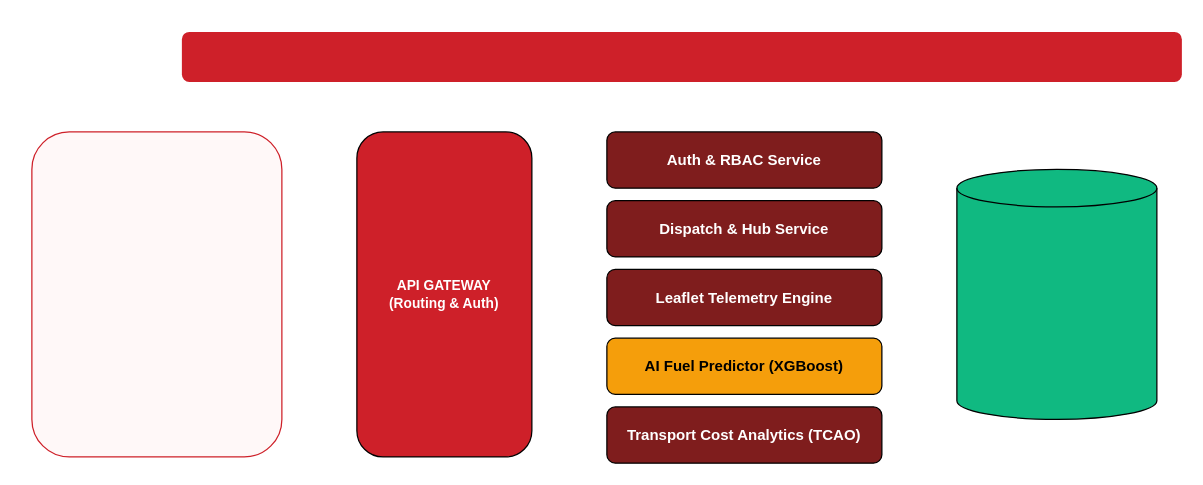
Image size: 1203x485. Some labels were removed from this diagram. Each missing label, with the centre of its shape:
"CLIENT USERS & DEVICES (Admins, Dispatchers, Drivers)" belongs at point 156,294.
"FIGURE 3: HIRNA MOBILITY MICROSERVICES ARCHITECTURE" belongs at point 681,56.
"MySQL RDBMS + Redis Cache" belongs at point 1056,293.
